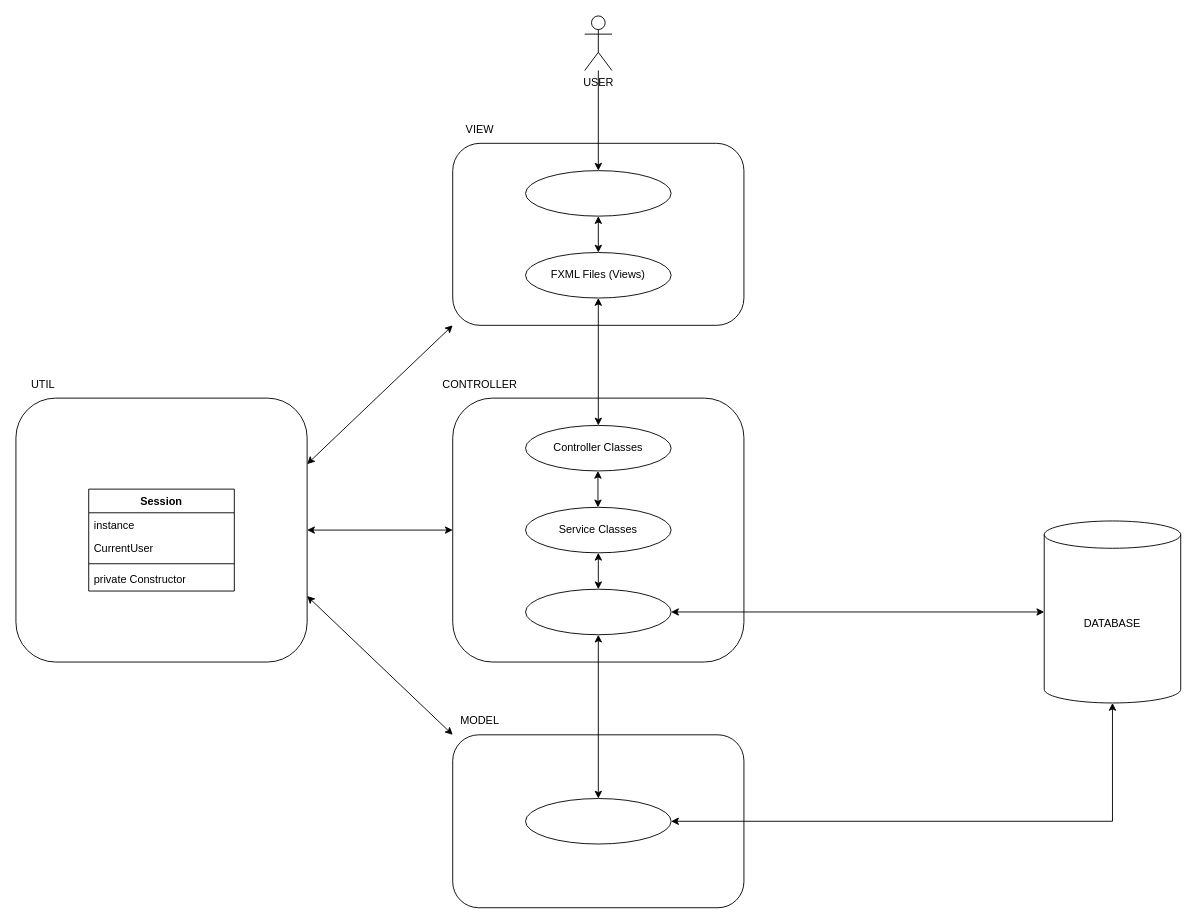
This 1197x924 diagram has some shape labels left out. The shapes that lost their labels are listed below. From the top down, each one's centre as x and y in pixels, then its label:
At point (598, 193): "Login".
At point (598, 611): "DAO Classes".
At point (598, 821): "Domain Classes".
